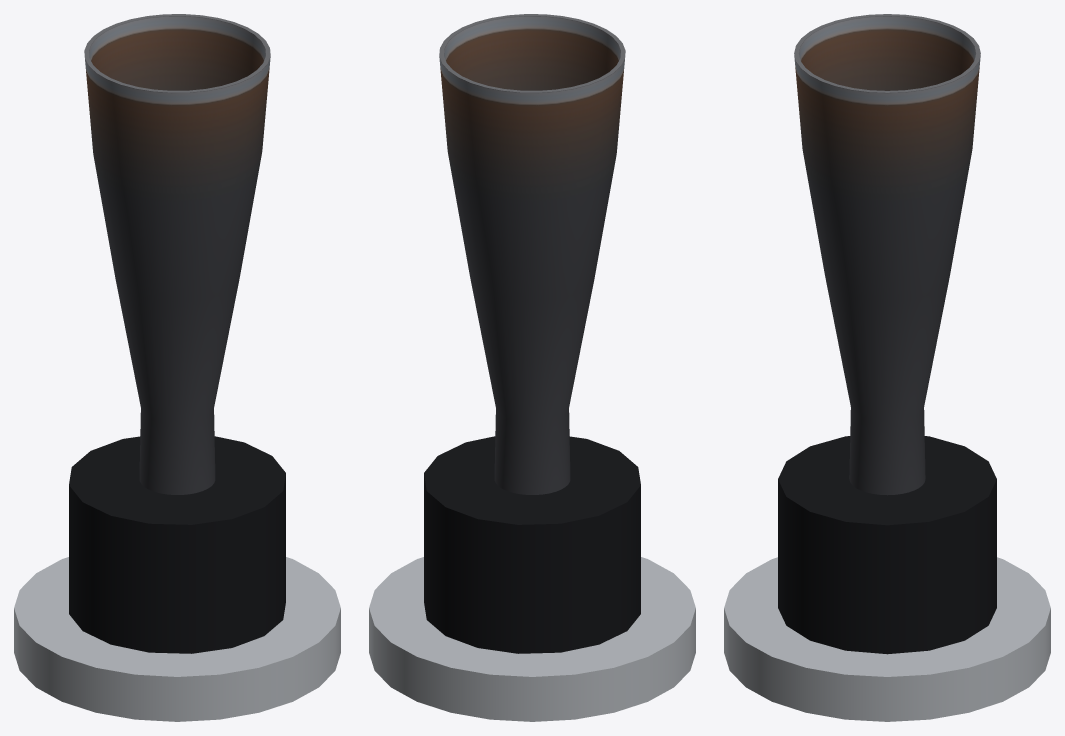
Rendered from prop_mr103g.glb.
The picture shows the model from 3 angles, left to right: view 1: azimuth 30°, elevation 25°; view 2: azimuth 150°, elevation 25°; view 3: azimuth 270°, elevation 25°; orthographic projection.
Visible parts, largest first — view 1: mount_and_valves, nozzle_bell; view 2: mount_and_valves, nozzle_bell; view 3: mount_and_valves, nozzle_bell.
Part boxes in pixels (x1=…): mount_and_valves: x1=14, y1=436, x2=340, y2=721; nozzle_bell: x1=84, y1=14, x2=270, y2=494; mount_and_valves: x1=369, y1=436, x2=695, y2=721; nozzle_bell: x1=439, y1=14, x2=625, y2=494; mount_and_valves: x1=724, y1=436, x2=1050, y2=721; nozzle_bell: x1=794, y1=14, x2=980, y2=495.
Size of the model in its own units: 0.042 by 0.085 by 0.042.
3 materials, 1 textured.
